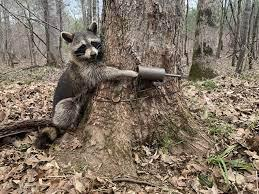raccoon: (27, 15, 148, 156)
